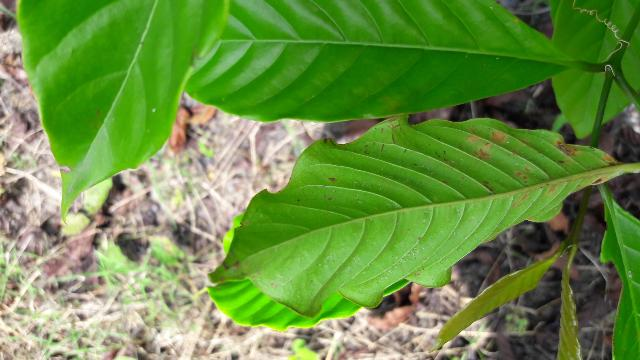rust_level_2: (231, 125, 618, 298)
